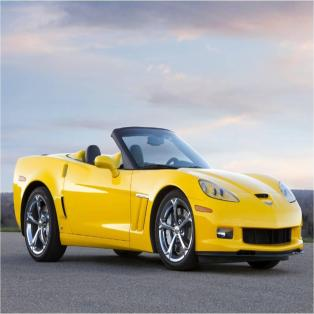Auto: (14, 127, 303, 270)
